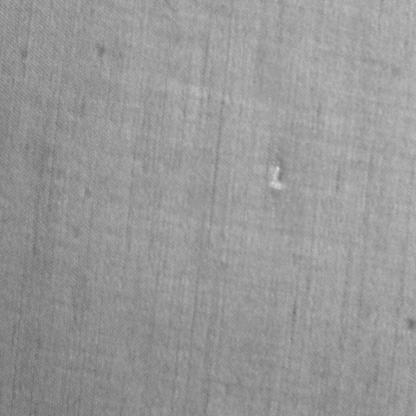hole: (269, 162, 285, 196)
